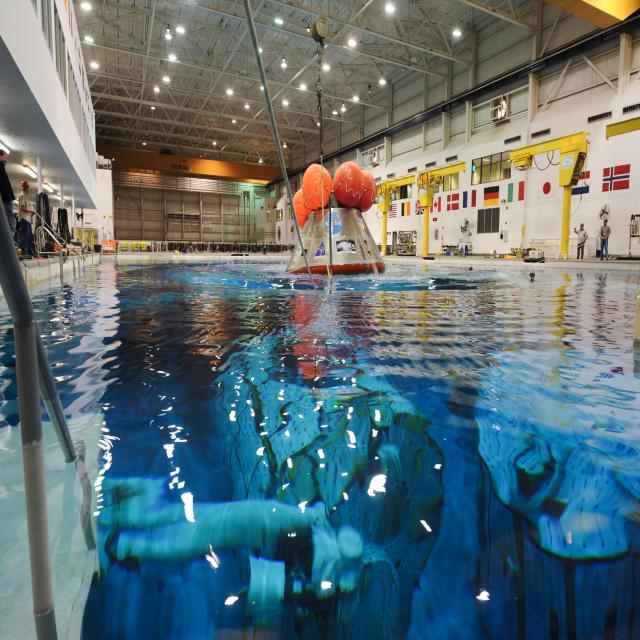Orion_capsule_mockup_ WEST _located_on_far_end_of_pool: (285, 160, 386, 278)
